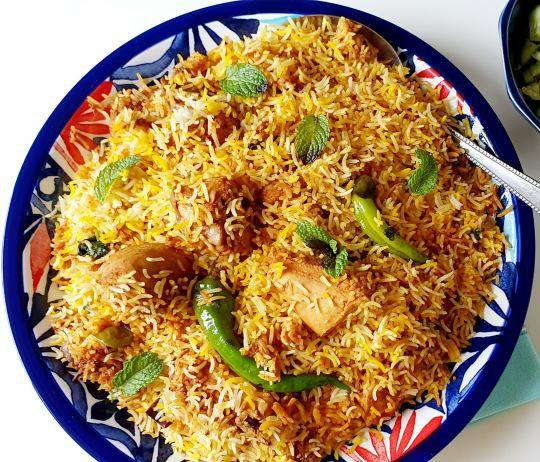Biryani: (43, 14, 505, 462)
